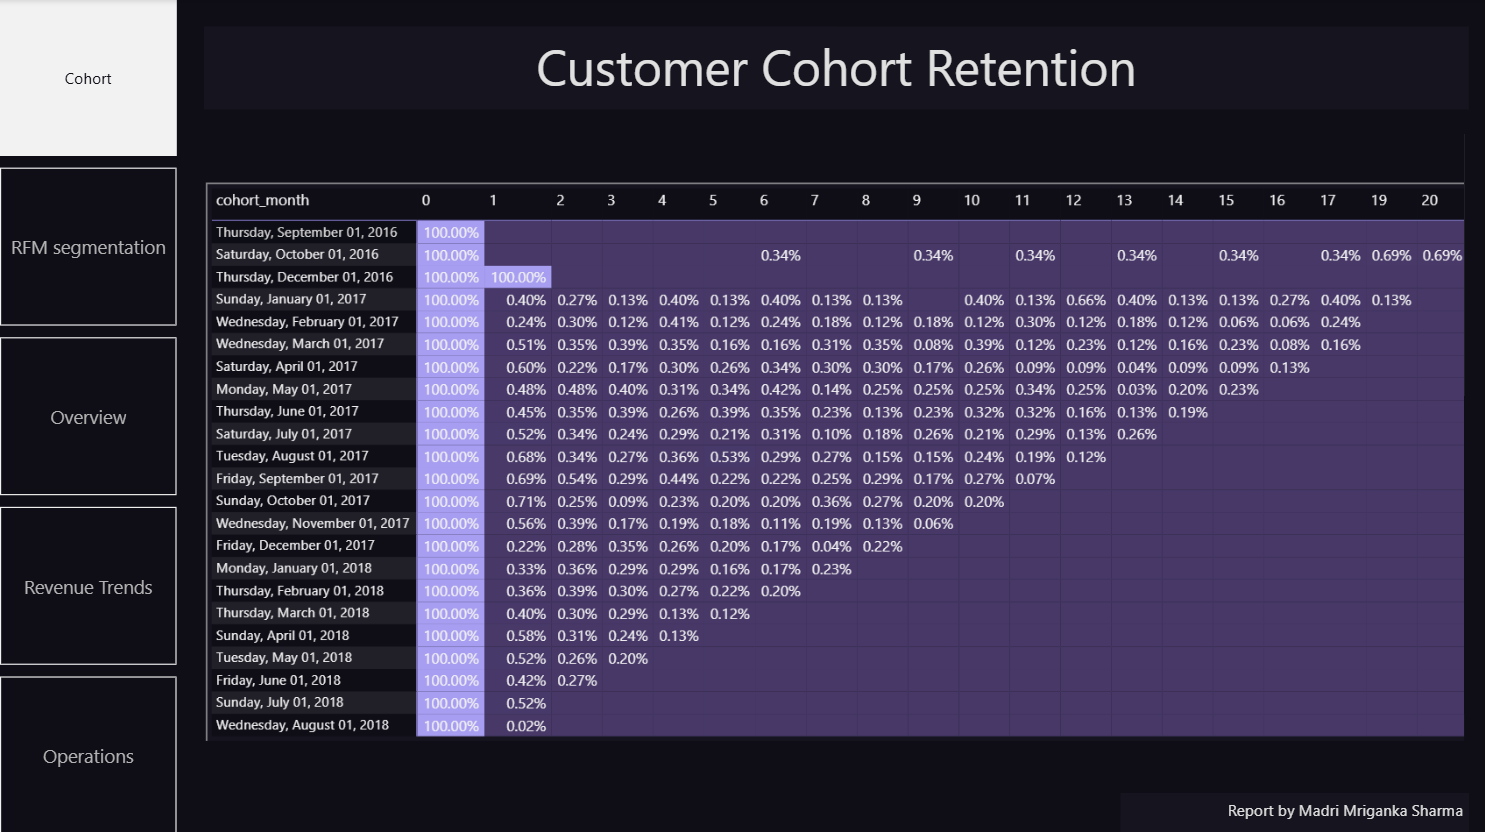

Layout of this report page (visuals, bound fields, positions):
{"tool":"powerbi","page":{"name":"Cohort ","canvas":[1280,720],"ordinal":0},"visuals":[{"type":"image","box":[175.6,117.5,1084.6,563],"z":1},{"type":"pageNavigator","box":[0,0,152.5,720.4],"z":2},{"type":"textbox","box":[175.6,24.5,1088.5,71],"z":3},{"type":"textbox","box":[964.7,684,300.1,36],"z":4}]}

Visuals, with their boxes on the page's 1280x720 design canvas (x1, y1, x2, y2). These are canvas units, not pixel positions in the 1485x832 screenshot, which may show the page scaled, cropped or inside an application window:
image: [176, 118, 1260, 680]
pageNavigator: [0, 0, 152, 720]
textbox: [176, 24, 1264, 96]
textbox: [965, 684, 1265, 720]
